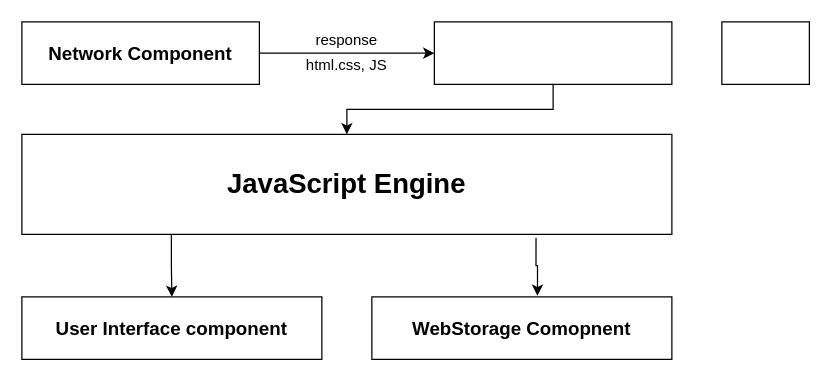
Some shapes in this 831 by 381 pixel diagram are drawn without their labels. The centre of each missing label's shape, as x and y in pixels:
DOM: the point at 765,52
Rendering Engine Layout Engine: the point at 552,52
